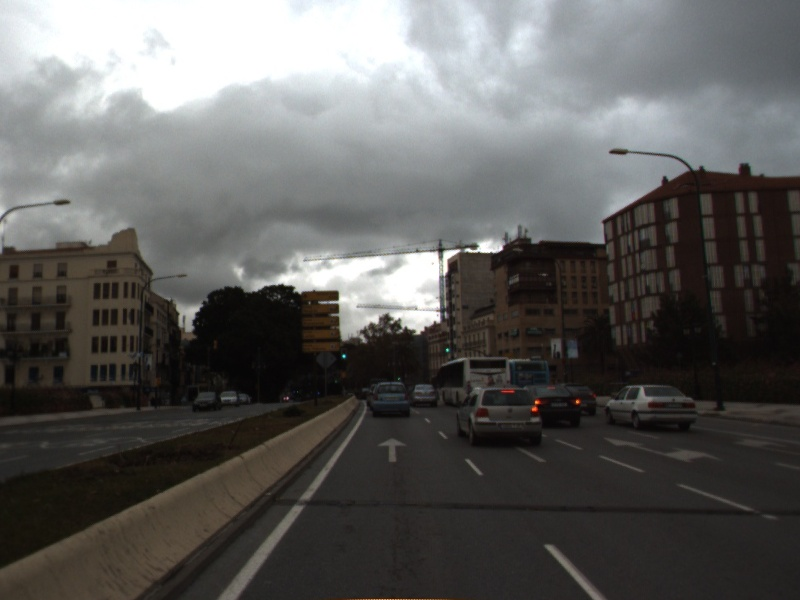RIGHT: (732, 435, 800, 457)
STRAIGHT: (374, 436, 410, 464)
STRAIGHT_RIGHT: (601, 435, 726, 465)
